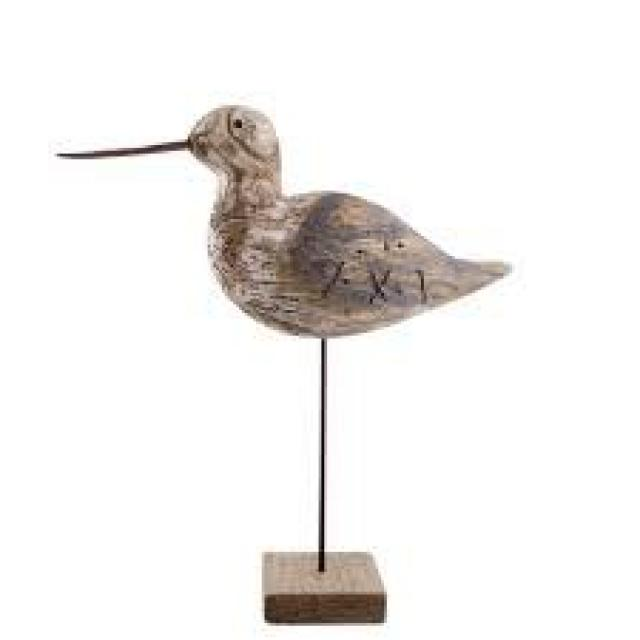sandpiper: (60, 105, 509, 569)
